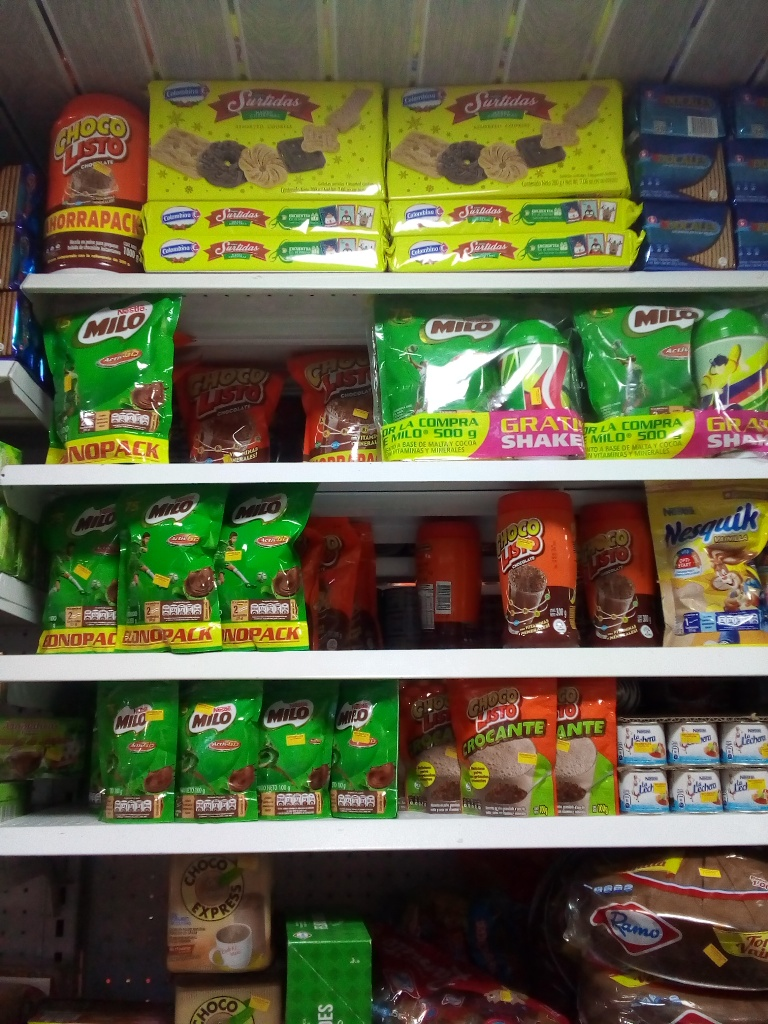COL0170103DYP44000: (190, 356, 285, 461)
COL0170103TRR00100: (42, 88, 151, 271)
COL0170203DYP10000: (333, 681, 400, 817)
COL0170203DYP50000: (374, 298, 503, 425)
COL0170306DYP20000: (643, 487, 763, 646)
